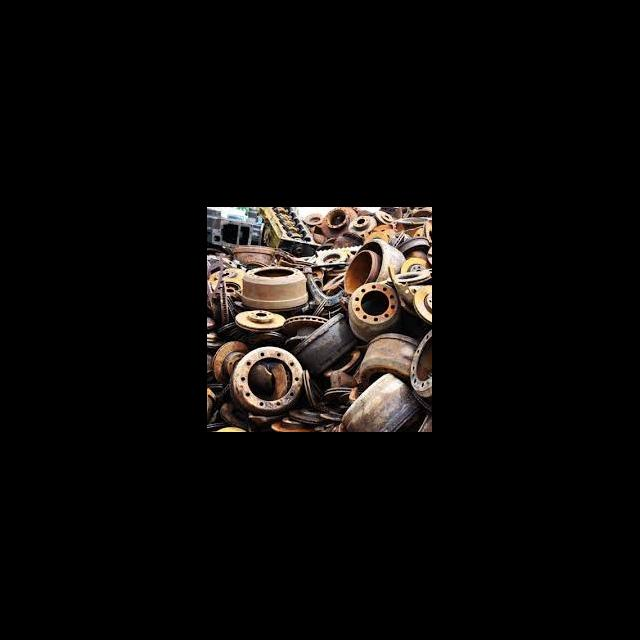metal: (224, 340, 316, 420), (332, 369, 424, 432), (232, 254, 314, 314), (352, 322, 426, 388), (336, 232, 408, 298), (336, 276, 406, 332), (248, 208, 320, 258), (399, 326, 432, 404), (230, 300, 290, 338), (312, 208, 363, 245), (394, 230, 432, 266), (408, 282, 432, 324), (346, 212, 382, 240)
